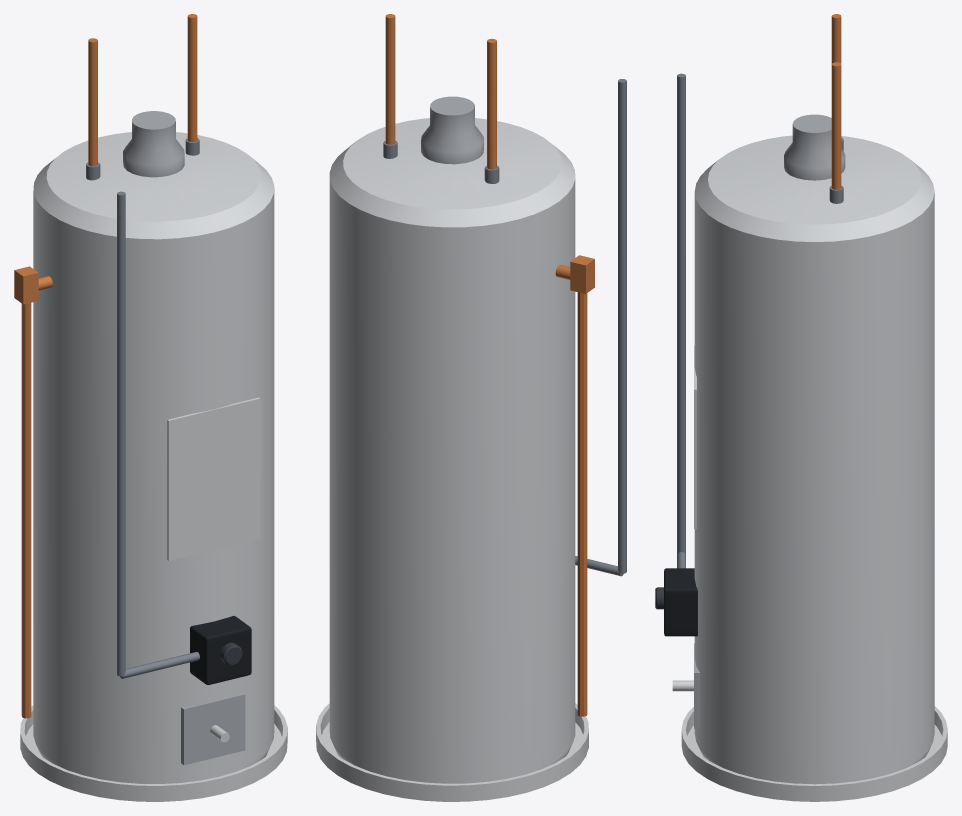
File: water_heater_rheem_prog50.glb
3 views of the same model, side by side, from view 1: azimuth 30°, elevation 25°; view 2: azimuth 150°, elevation 25°; view 3: azimuth 270°, elevation 25° (orthographic). The views are drawn at different scales.
Parts seen in each view (by area): view 1: water_heater_rheem_prog50; view 2: water_heater_rheem_prog50; view 3: water_heater_rheem_prog50.
Boxes of the visible parts, x1=… form: water_heater_rheem_prog50: x1=14, y1=14, x2=287, y2=801; water_heater_rheem_prog50: x1=316, y1=14, x2=626, y2=801; water_heater_rheem_prog50: x1=664, y1=14, x2=947, y2=801.
Size of the model in its own units: 0.6561 by 1.77 by 0.6661.
